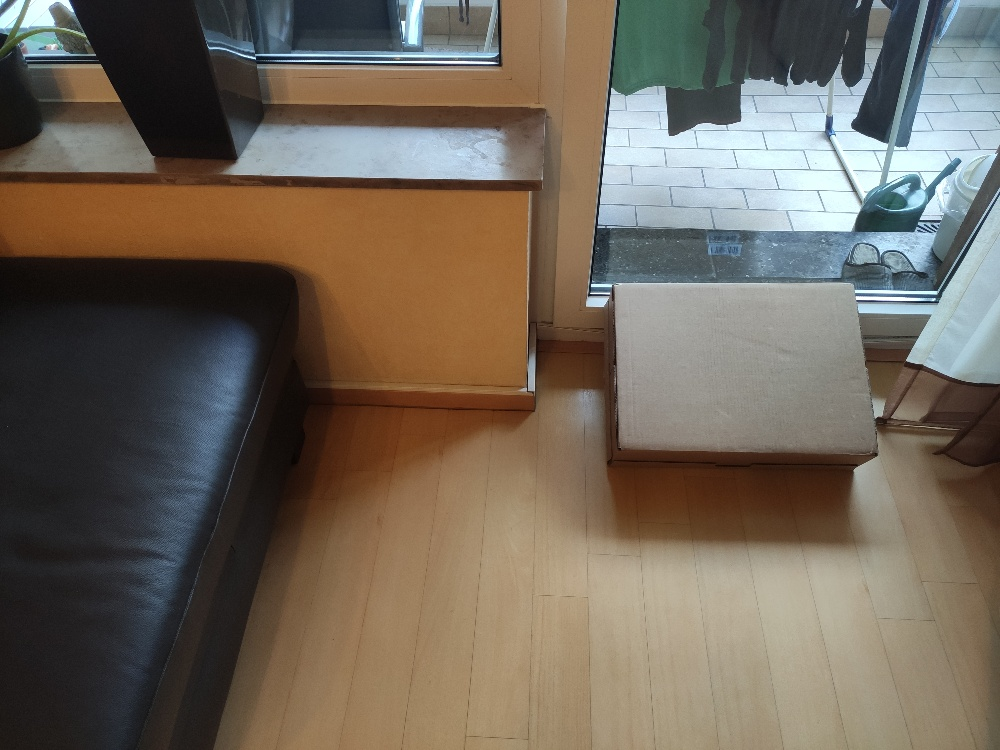good-parcel: (592, 270, 885, 493)
